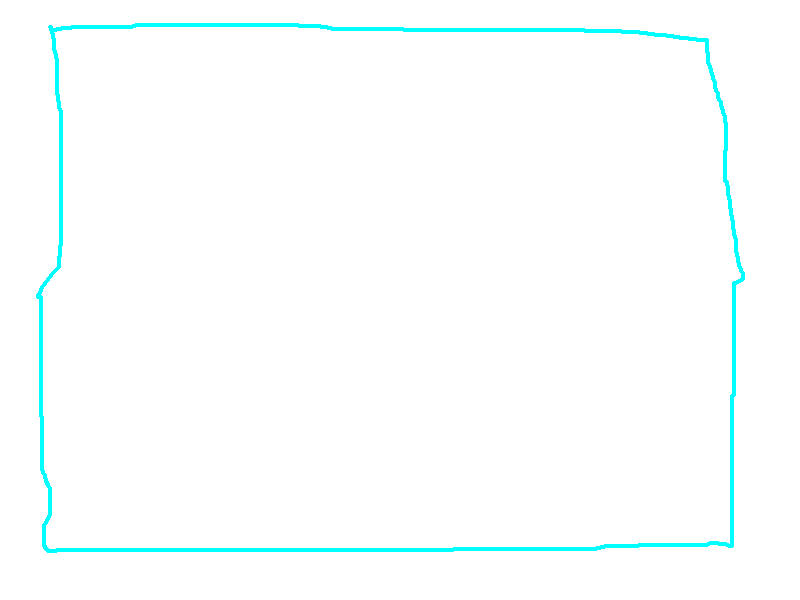rect: (28, 16, 753, 558)
